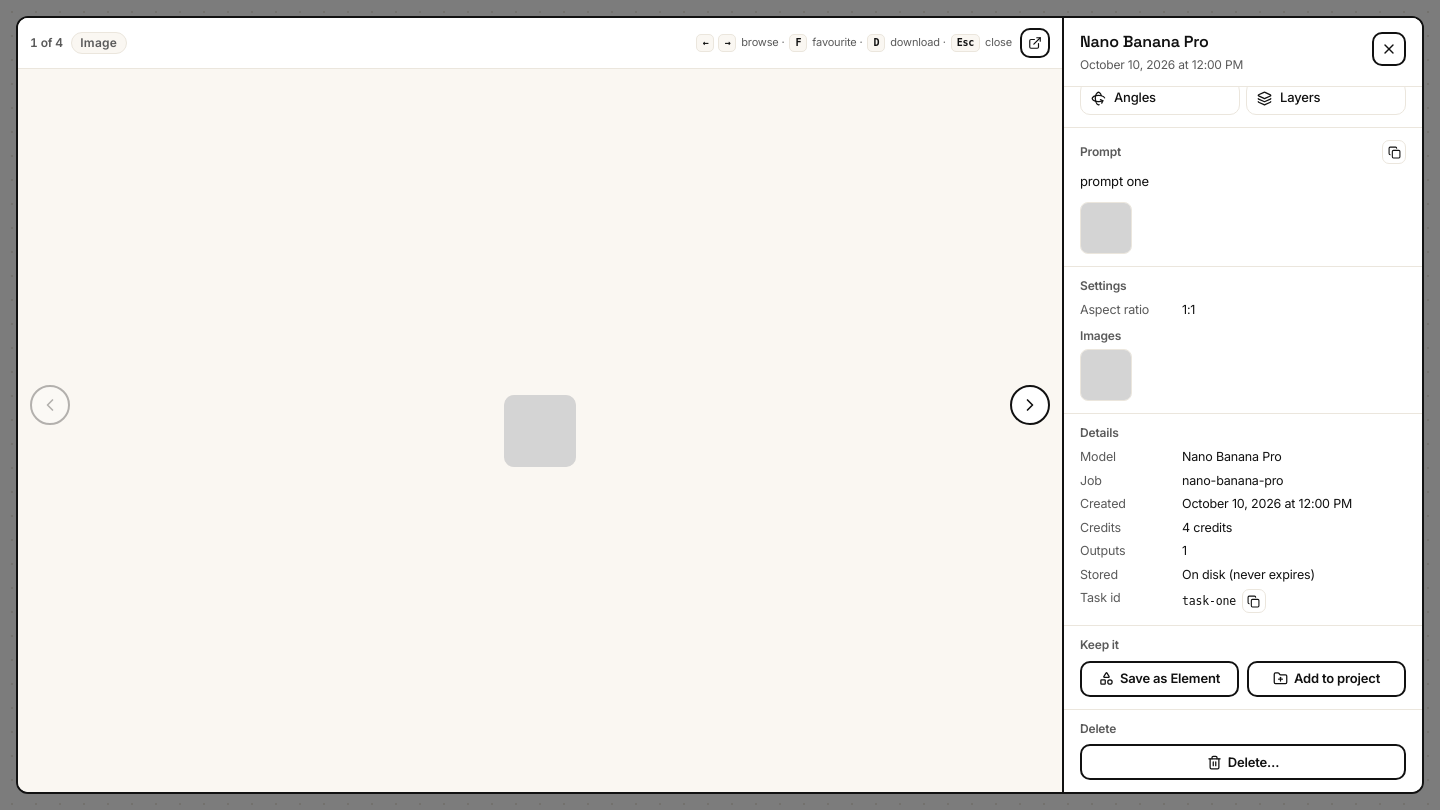
Test: Viewer › deletes only after an inline confirm, then moves to the next result
The width and height of the screenshot is (1440, 810).
(page scrolled)
Click the button "Delete…". click: (1243, 762)
box: [1080,744,1406,780]
(page scrolled)
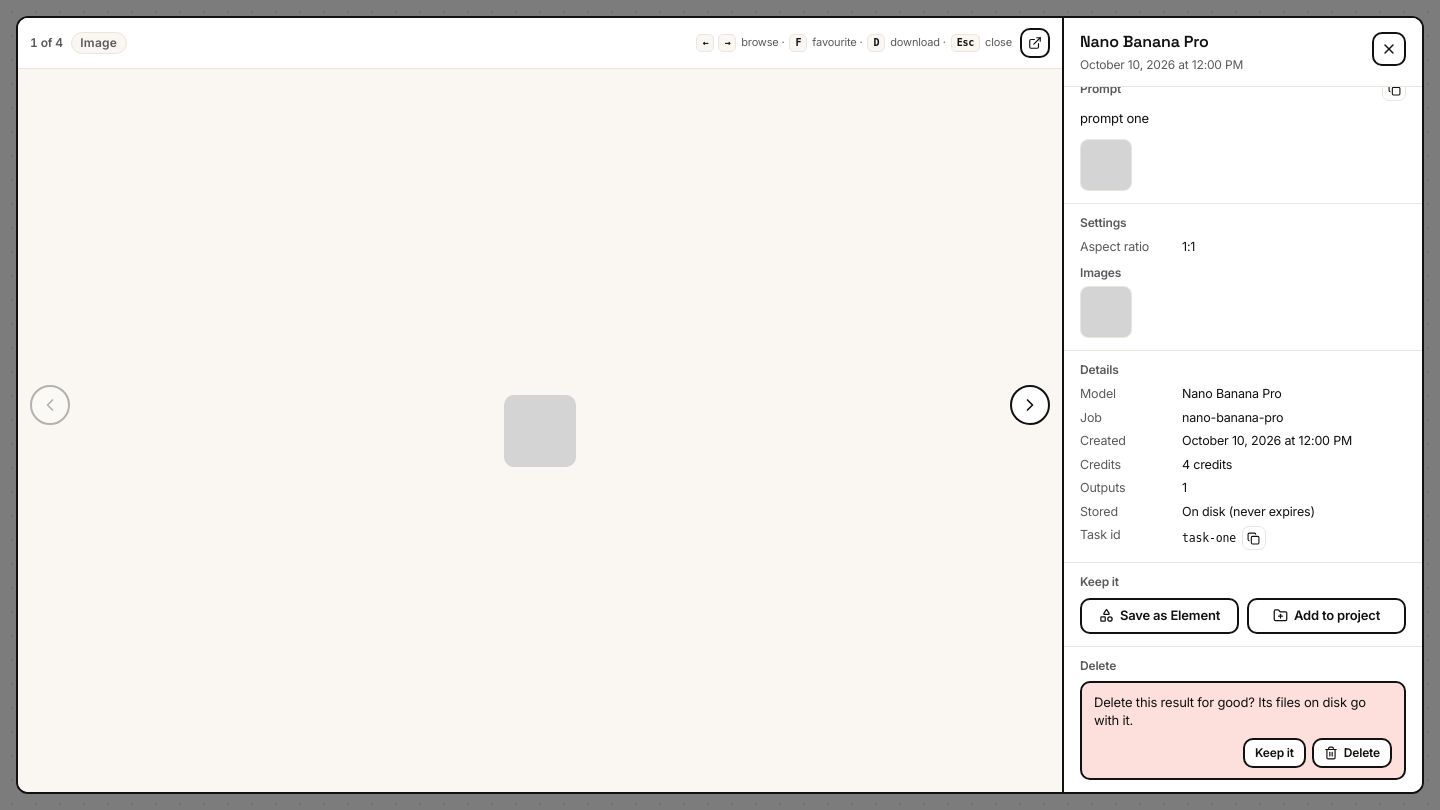
Expected: the text "Delete this result for good? Its files on disk go with it." is shown, [1094,693,1392,730]
Click the button "Delete". click: (1352, 752)
box: [1312,738,1392,768]
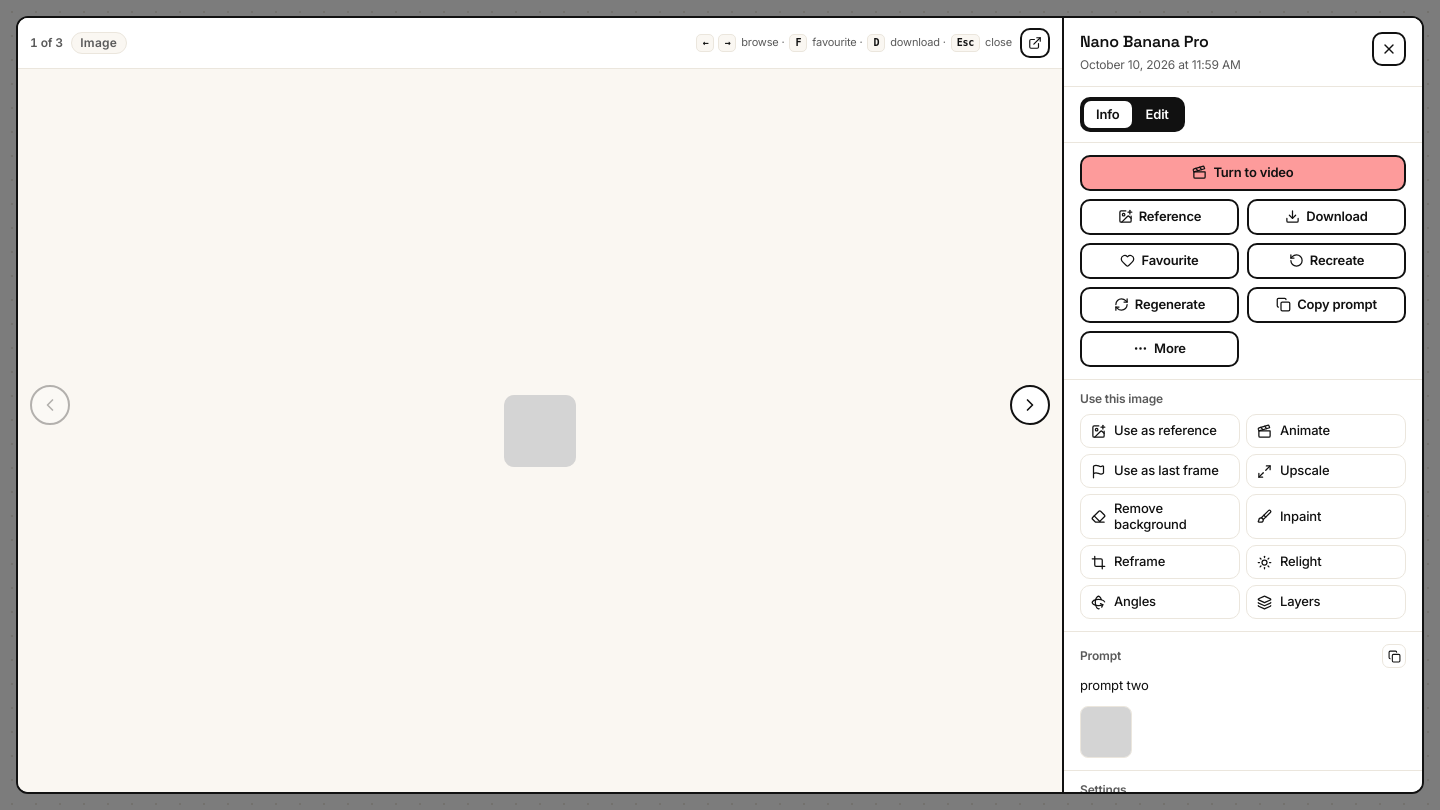
Expected: the text "1 of 3" is shown, [30,37,63,49]
Expected: the text "prompt two" is shown, [1080,677,1149,693]
